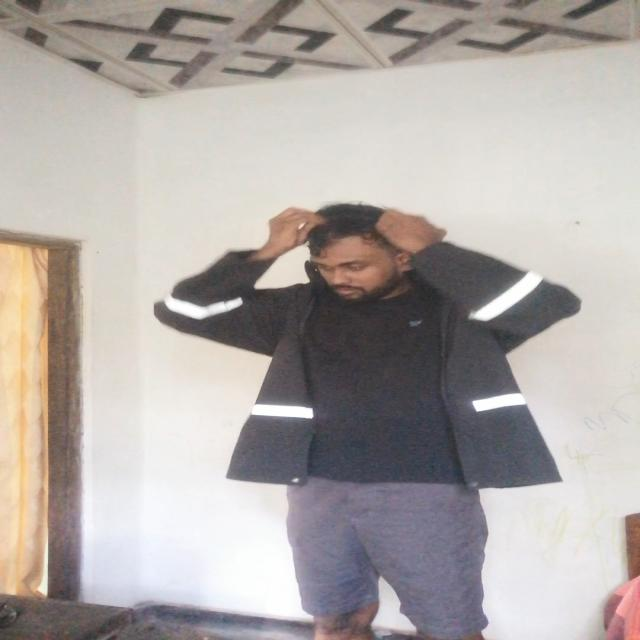Jacket_Wearer: (181, 245, 560, 482)
Person: (144, 192, 566, 640)
